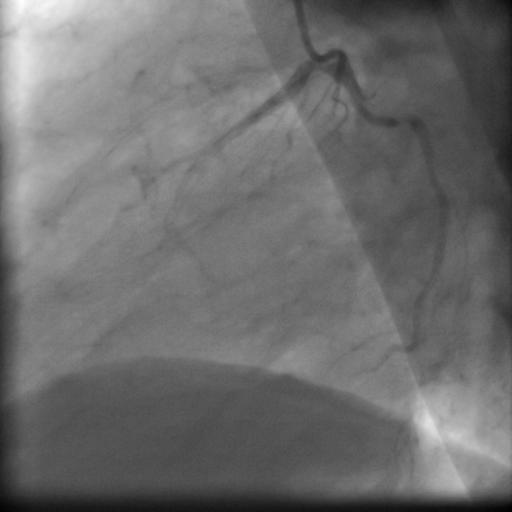Stenosis: (391, 108, 413, 133)
